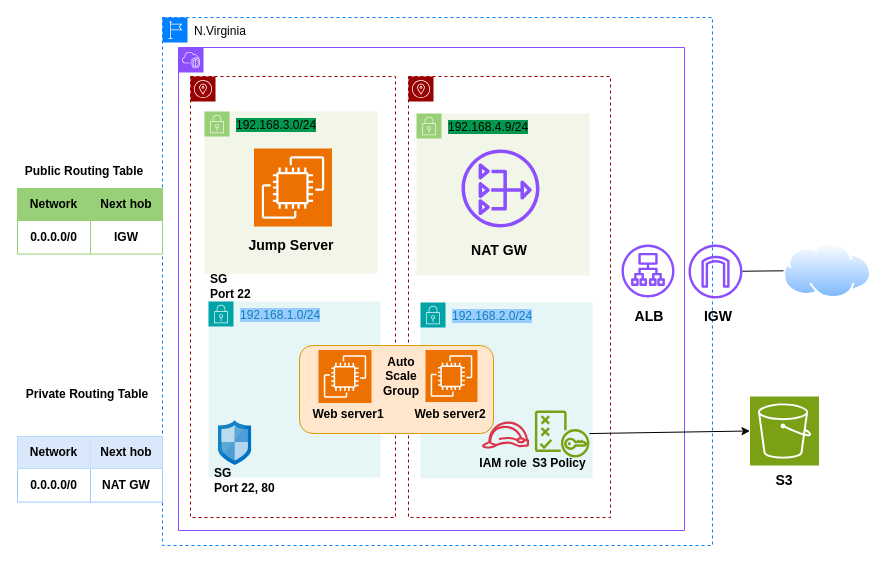
The diagram is 889 pixels wide and 563 high, and some of its shapes have lost their labels. The shapes that lost their labels are listed below. From the top down, each one's box as (x1, y1, x2, y2) in pixels, then its label:
(190, 76, 396, 518): Availability zone1
(178, 46, 684, 530): VPC
(408, 76, 610, 518): Availability zone2
